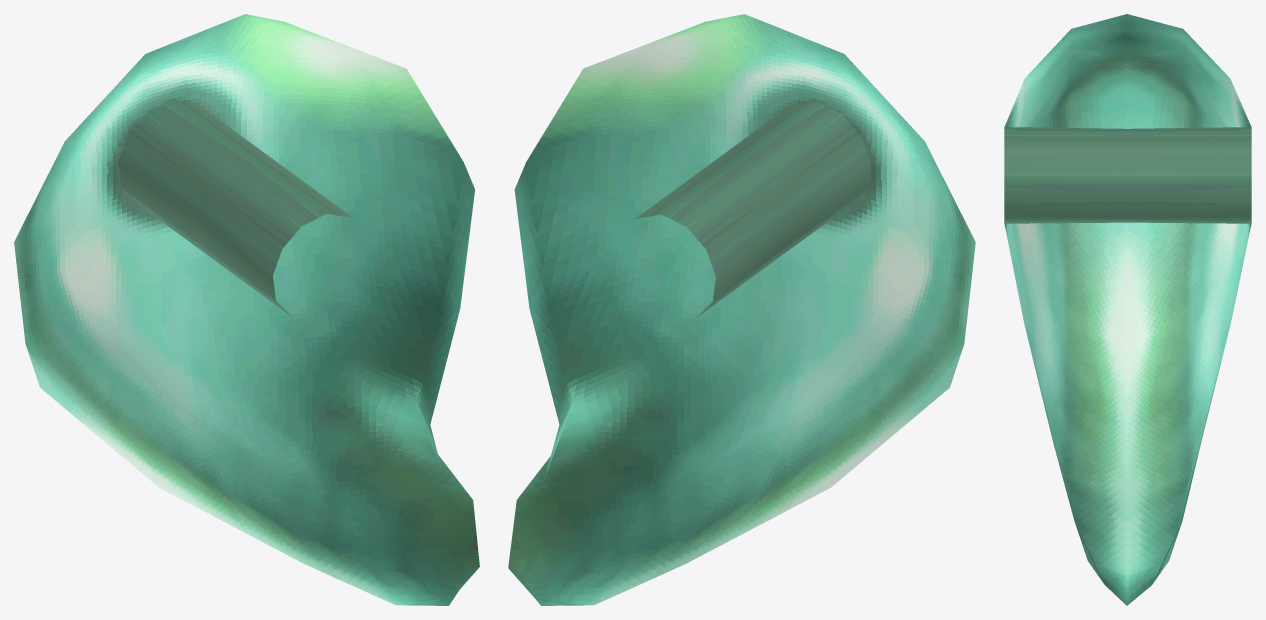
File: ps2_save-icons_hisuinoshizukuhiironokakera2.glb
3 views of the same model, side by side, from view 1: azimuth 30°, elevation 25°; view 2: azimuth 150°, elevation 25°; view 3: azimuth 270°, elevation 25° (orthographic). The views are drawn at different scales.
Parts seen in each view (by area): view 1: SAVE.ICO; view 2: SAVE.ICO; view 3: SAVE.ICO.
Part boxes in pixels (<box>): SAVE.ICO: <box>14,14,479,605</box>; SAVE.ICO: <box>508,14,975,605</box>; SAVE.ICO: <box>1004,14,1251,605</box>.
Bounding box in the file's own units: 2.95 × 3.9 × 1.75.
1 material, 1 textured.
